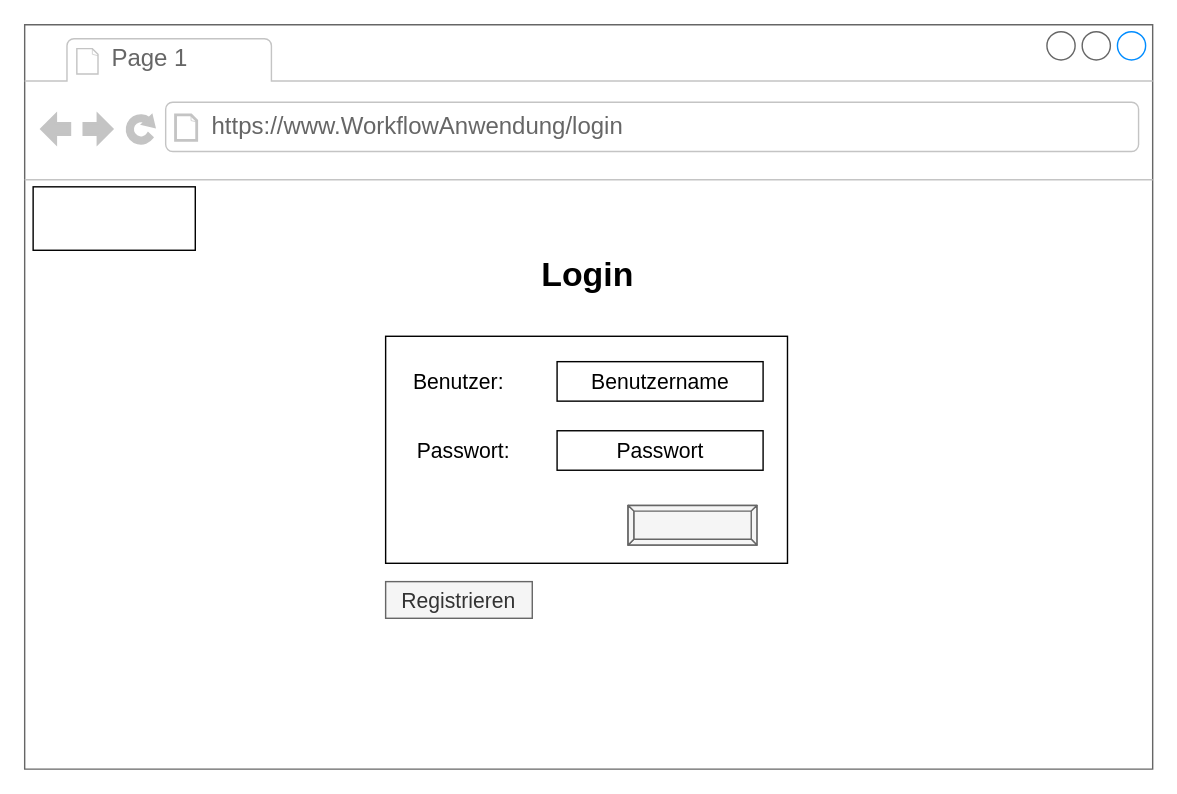
Image size: 1177x794. Some labels were removed from this diagram. The box of each missing label's shape, as (x1, y1, x2, y2) in pixels:
anmelden: (627, 504, 757, 545)
Workflow anwendung: (32, 185, 195, 250)
